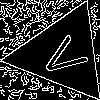V: (37, 28, 98, 83)
